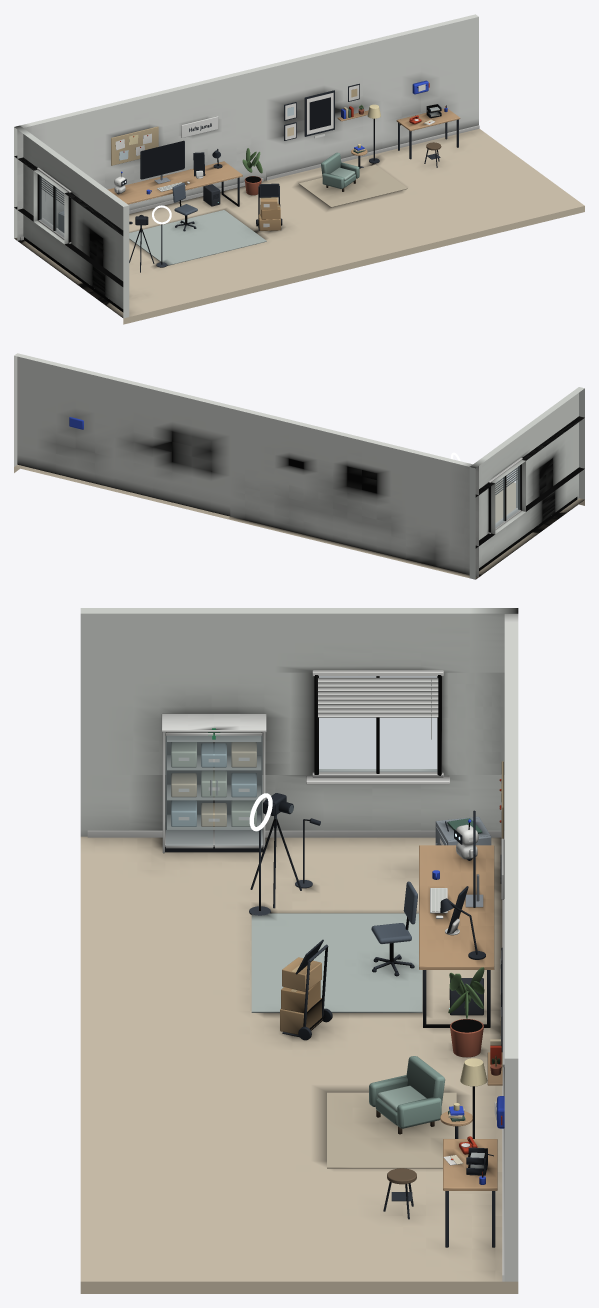
File: workshop.glb
The picture shows the model from 3 angles, top to bottom: view 1: azimuth 30°, elevation 25°; view 2: azimuth 150°, elevation 25°; view 3: azimuth 270°, elevation 25°; orthographic projection. The views are drawn at different scales.
Visible parts, largest first — view 1: wall_back_annex, floor_annex, wall_back, floor, rug, wall_left_front, wall_left_high, wall_left_low, rug_annex, desk_top, screen_theoses, wall_left_back (+8 smaller); view 2: wall_back, wall_back_annex, wall_left_front, wall_left_high, wall_left_low, floor, wall_left_back, glass_window, floor_annex, skirting_left; view 3: floor_annex, floor, wall_left_high, wall_left_front, wall_left_low, rug, desk_top, rug_annex, wall_back_annex, wall_left_back, glass_window, glass_cab_door_l (+13 smaller).
Boxes of the visible parts, x1,y1,x2,y2 form: wall_back_annex: (263, 14, 478, 176); floor_annex: (267, 128, 584, 263); wall_back: (17, 66, 265, 240); floor: (14, 180, 371, 324); rug: (129, 210, 266, 265); wall_left_front: (64, 192, 129, 287); wall_left_high: (14, 125, 129, 236); wall_left_low: (14, 208, 129, 318); rug_annex: (298, 164, 407, 207); desk_top: (108, 161, 242, 204); screen_theoses: (141, 140, 184, 179); wall_left_back: (14, 155, 37, 221); wall_back: (227, 405, 478, 576); wall_back_annex: (14, 353, 230, 516); wall_left_front: (522, 416, 584, 511); wall_left_high: (469, 387, 584, 497); wall_left_low: (469, 469, 584, 579); floor: (227, 479, 584, 579); wall_left_back: (469, 482, 495, 548); glass_window: (495, 466, 519, 527); floor_annex: (14, 464, 229, 518); skirting_left: (479, 497, 577, 571); floor_annex: (80, 1073, 518, 1293); floor: (80, 836, 502, 1073); wall_left_high: (80, 608, 518, 672); wall_left_front: (80, 672, 314, 774); wall_left_low: (80, 769, 504, 836); rug: (251, 913, 422, 1012); desk_top: (419, 845, 494, 969); rug_annex: (327, 1092, 456, 1168); wall_back_annex: (504, 850, 518, 1281); wall_left_back: (442, 672, 504, 774); glass_window: (319, 676, 436, 771); glass_cab_door_l: (166, 736, 212, 845).
Bounding box in the file's own units: 15.6 × 3.8 × 6.4.
